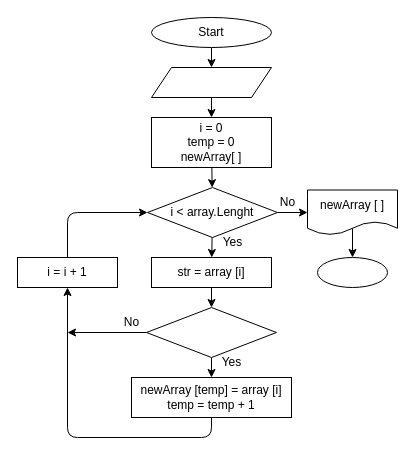
The diagram is 415 pixels wide and 463 high, and some of its shapes have lost their labels. Each missing label, with the box of its shape:
End: (316, 256, 388, 288)
n array[i]: (150, 66, 272, 98)
str.Lenght <= 3: (146, 306, 276, 358)
